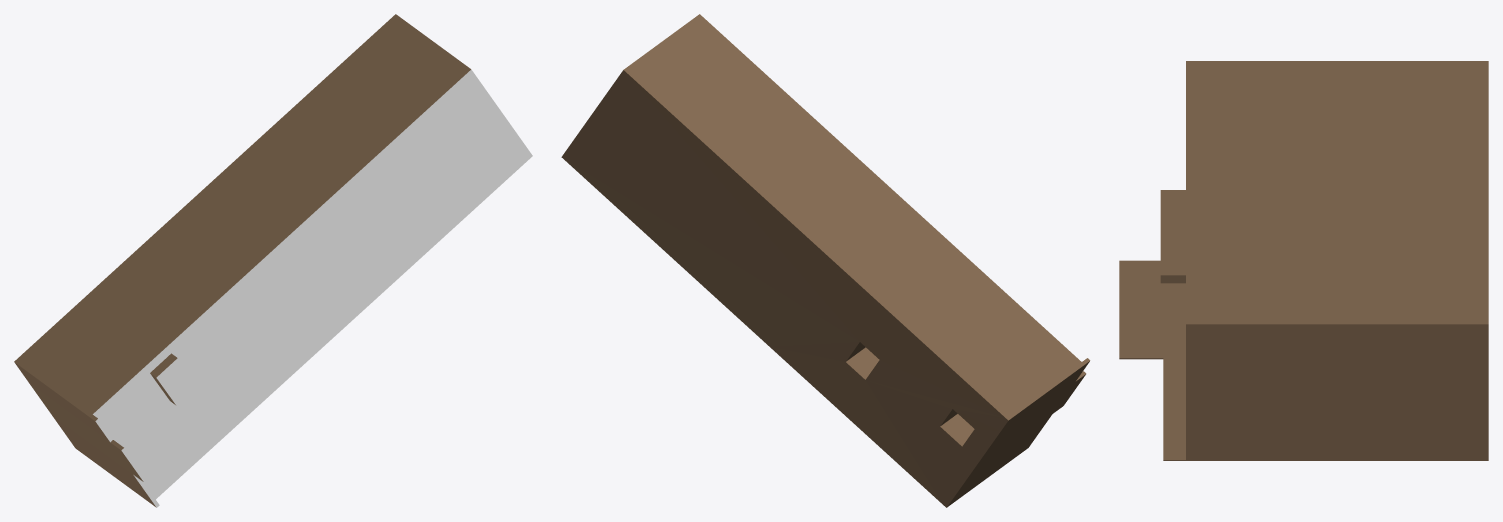
The picture shows the model from 3 angles, left to right: view 1: azimuth 30°, elevation 25°; view 2: azimuth 150°, elevation 25°; view 3: azimuth 270°, elevation 25°; orthographic projection. The views are drawn at different scales.
Parts seen in each view (by area): view 1: City_1202497; view 2: City_1202497; view 3: City_1202497.
Part boxes in pixels (x1,y1,x2,y2): City_1202497: [14, 14, 532, 507]; City_1202497: [561, 14, 1090, 507]; City_1202497: [1119, 61, 1488, 460].
Bounding box in the file's own units: 2539 × 1950 × 916.
